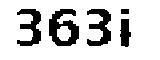3: (83, 7, 112, 50), (12, 8, 44, 46)
6: (46, 6, 80, 49)
i: (116, 7, 139, 51)
